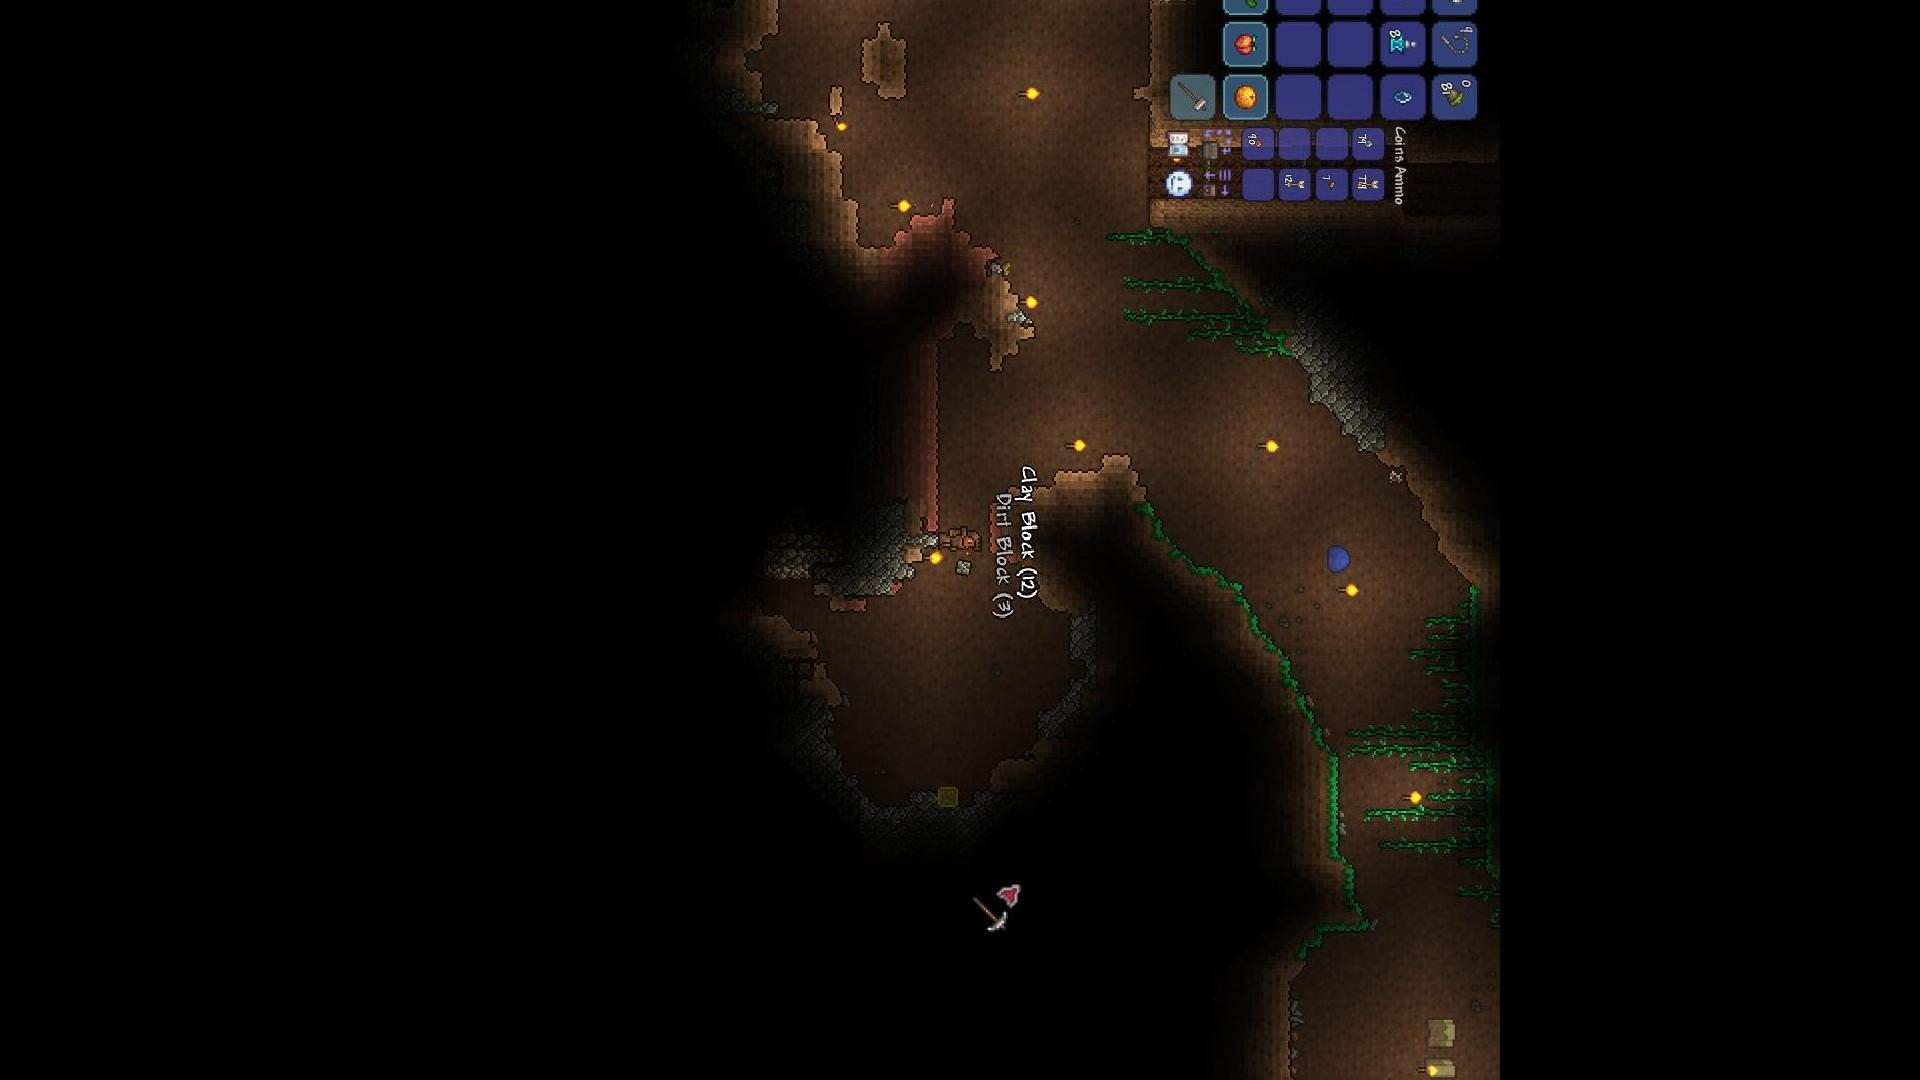recallP: (1386, 36, 1419, 55)
slime: (1324, 545, 1353, 574)
